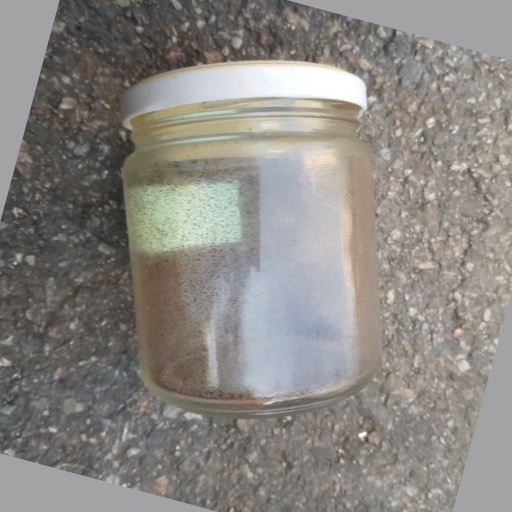Glass_5: (113, 58, 387, 419)
